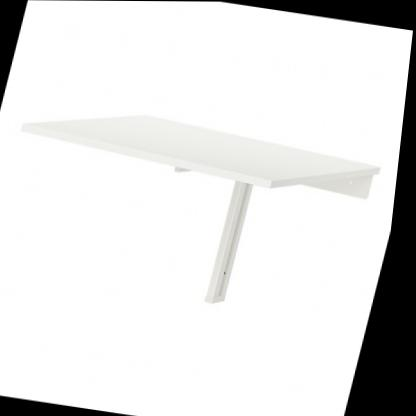Table: (0, 89, 398, 328)
